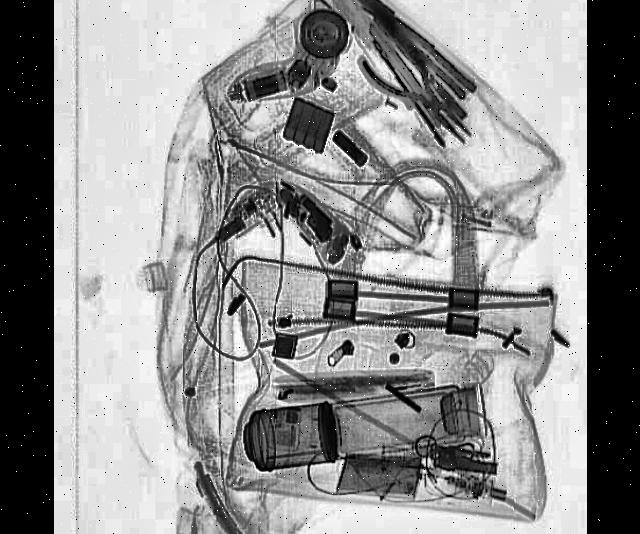Pliers: (356, 19, 480, 165)
